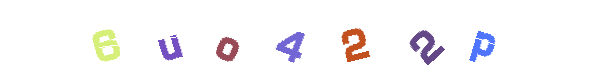2: (315, 0, 395, 80), (386, 0, 466, 80)
4: (268, 0, 348, 80)
6: (82, 0, 162, 80)
O: (210, 0, 290, 80)
P: (442, 0, 522, 80)
U: (192, 0, 272, 80)
